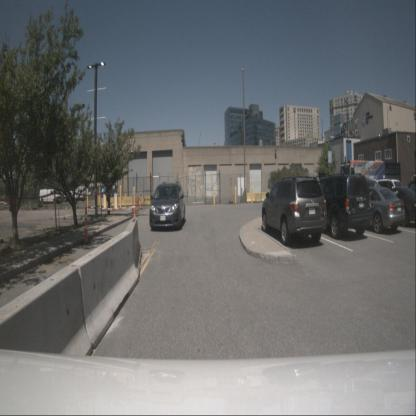barrier: (0, 265, 93, 415), (64, 232, 140, 350), (121, 217, 142, 279)
cone: (130, 204, 139, 248), (82, 201, 90, 245), (136, 194, 140, 211), (151, 191, 154, 210), (139, 192, 142, 210)
